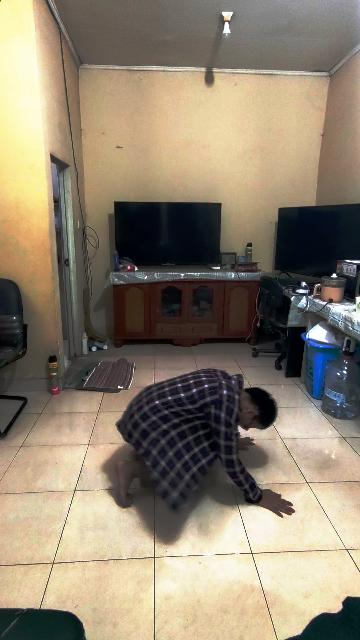jatuh: (112, 372, 296, 522)
